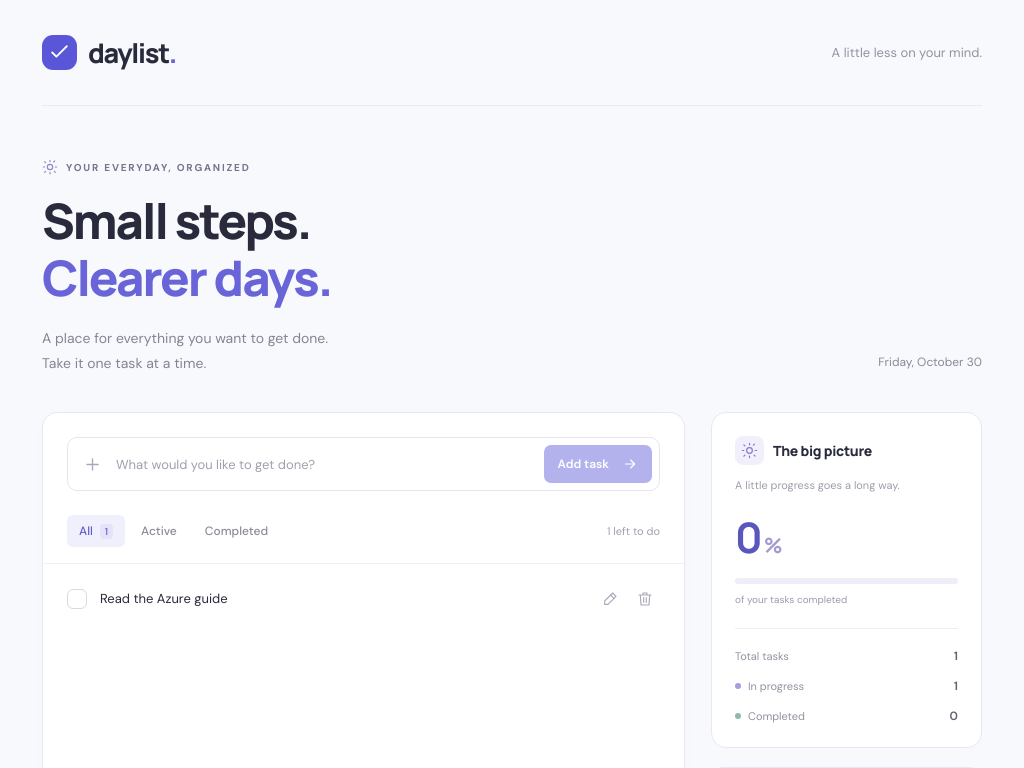
Test: task board › keeps a task visible when deletion fails and allows retrying
This screenshot has width=1024, height=768.
Expected: the text "Read the Azure guide" is shown, left=100, top=590, right=228, bottom=607
Click the button named "Delete Read the Azure guide".
click(645, 599)  # box left=630, top=584, right=660, bottom=614
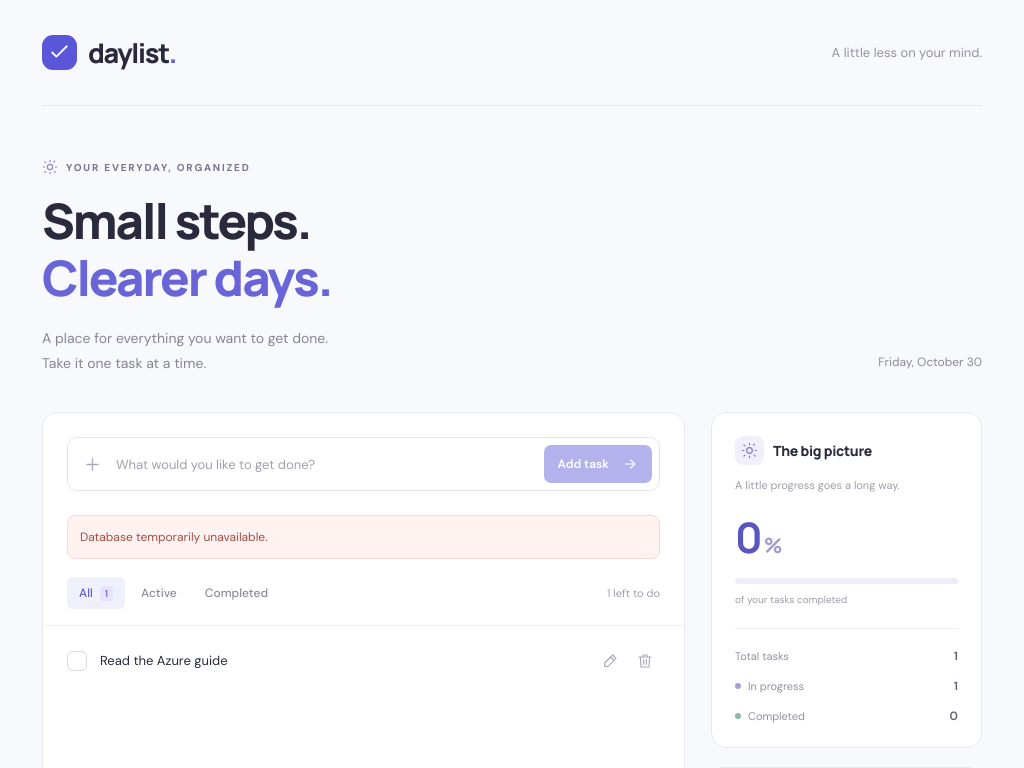
Expected: the text "Read the Azure guide" is shown, left=100, top=652, right=228, bottom=669
Expected: the message reads "Database temporarily unavailable.", left=80, top=529, right=268, bottom=545
Click the button named "Delete Read the Azure guide".
click(645, 661)  # box left=630, top=646, right=660, bottom=676
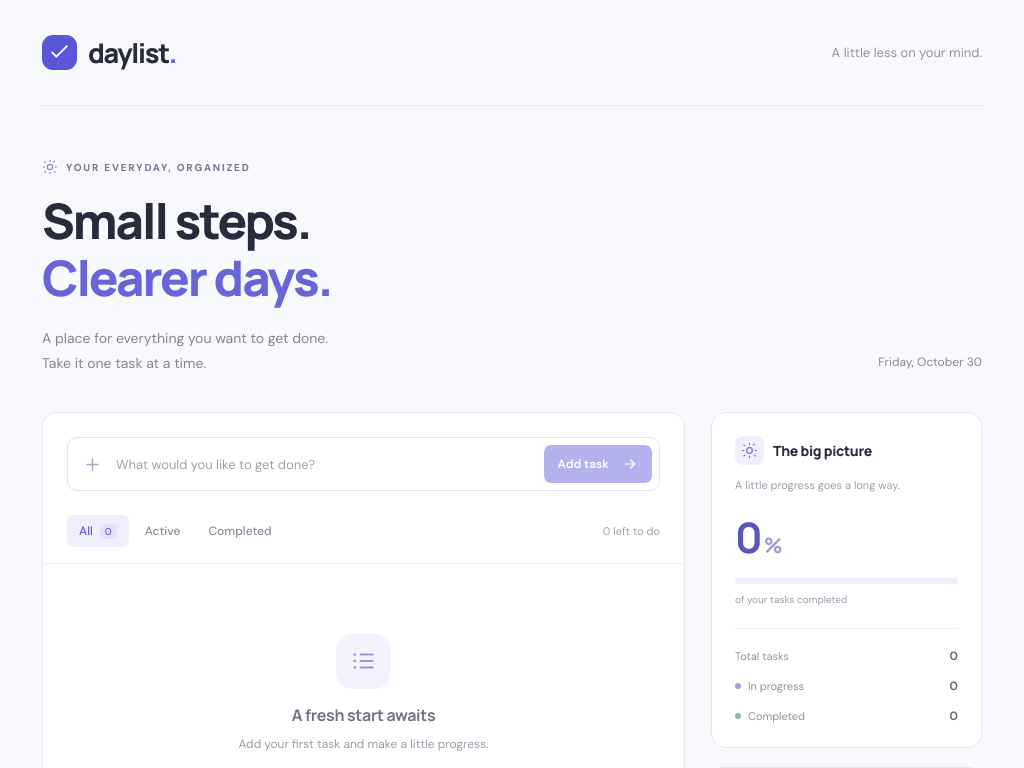
Expected: the text "Read the Azure guide" is gone
